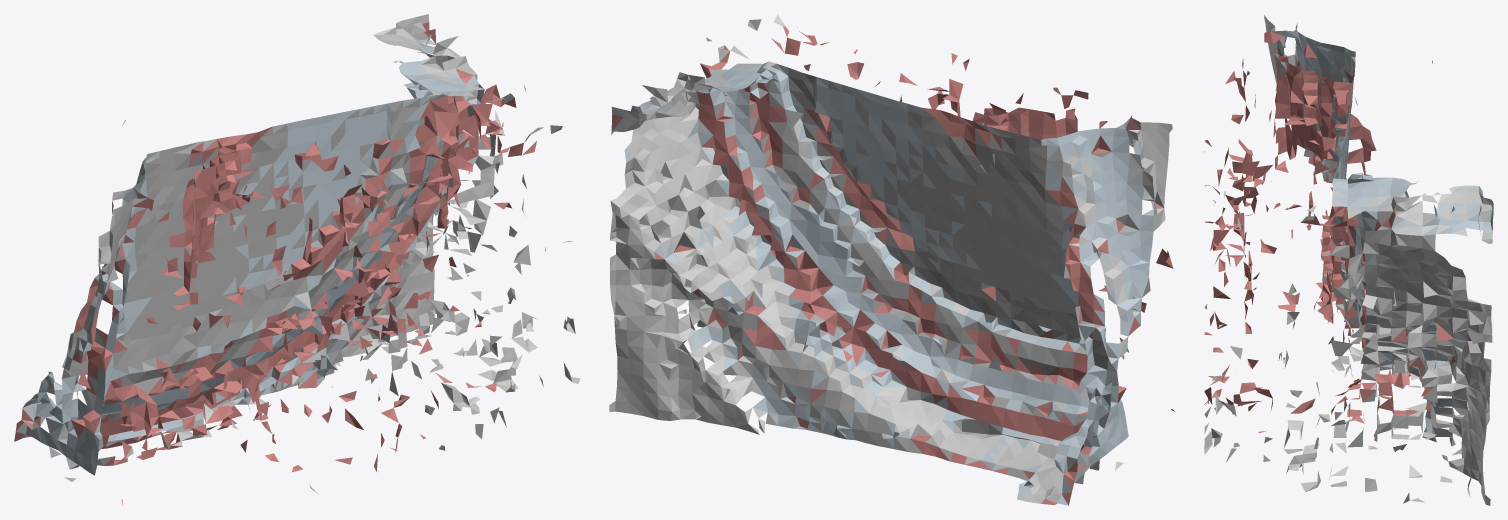
Rendered from R1-보존띠-1__lt_dynnow_ALS_s0__before.glb.
The picture shows the model from 3 angles, left to right: view 1: azimuth 30°, elevation 25°; view 2: azimuth 150°, elevation 25°; view 3: azimuth 270°, elevation 25°; orthographic projection. The views are drawn at different scales.
Bounding box in the file's own units: 51.4 × 34.39 × 30.84.
